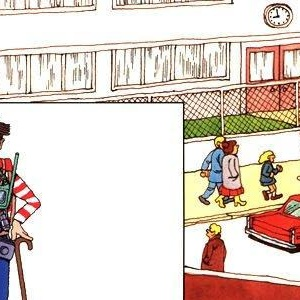Charlie: (116, 117, 184, 179)
